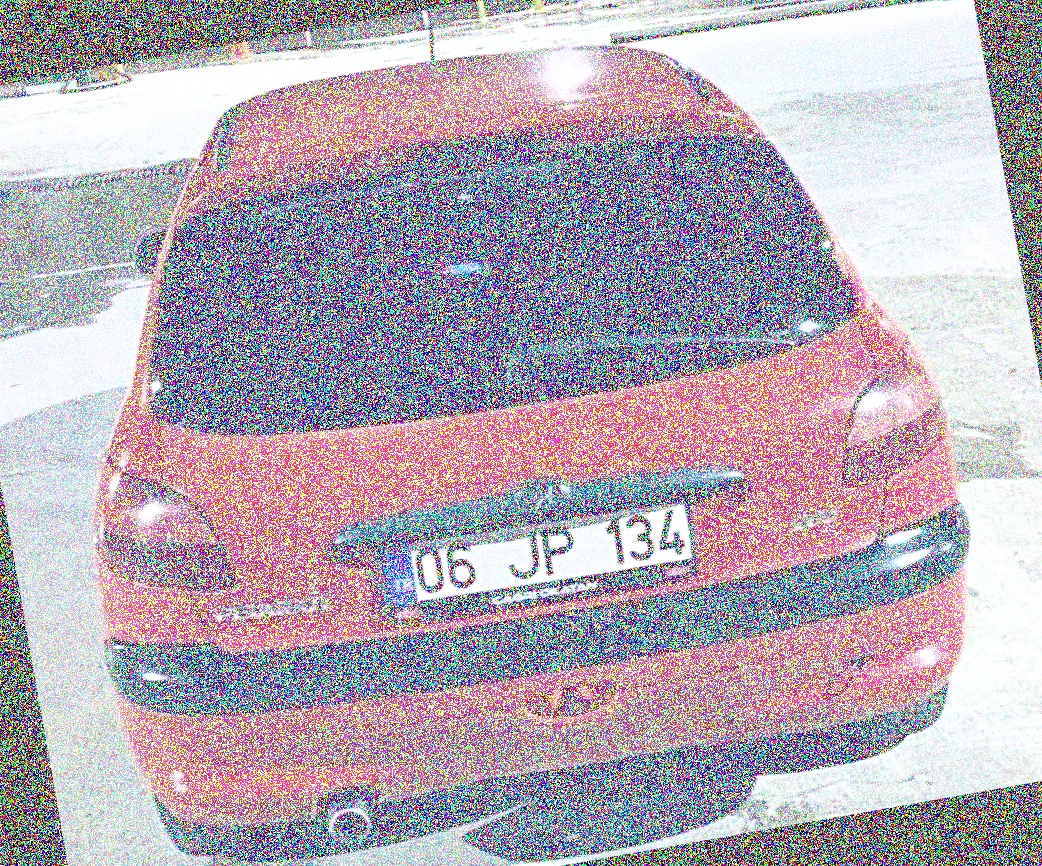plaka: (391, 505, 703, 595)
